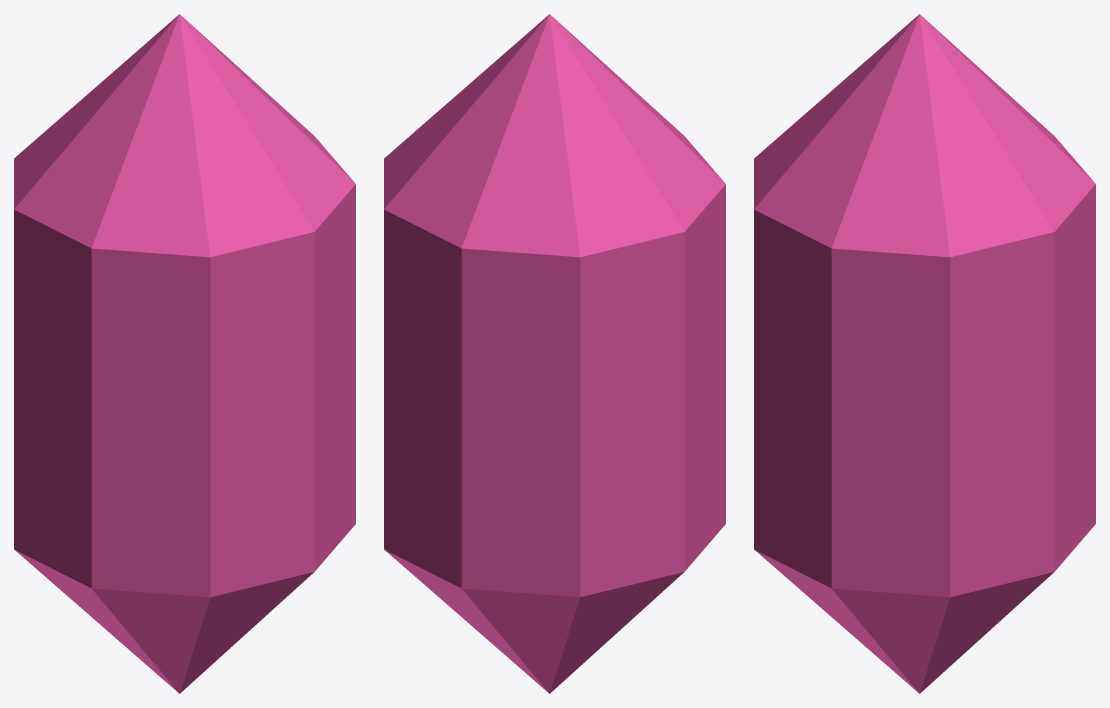
File: ReloadDiamondss.fbx
The picture shows the model from 3 angles, left to right: view 1: azimuth 30°, elevation 25°; view 2: azimuth 150°, elevation 25°; view 3: azimuth 270°, elevation 25°; orthographic projection.
Visible parts, largest first — view 1: Diamond; view 2: Diamond; view 3: Diamond.
Part boxes in pixels (x1,y1,x2,y2): Diamond: [14, 14, 355, 693]; Diamond: [384, 14, 725, 693]; Diamond: [754, 14, 1095, 693].
Size of the model in its own units: 119 by 262 by 121.
